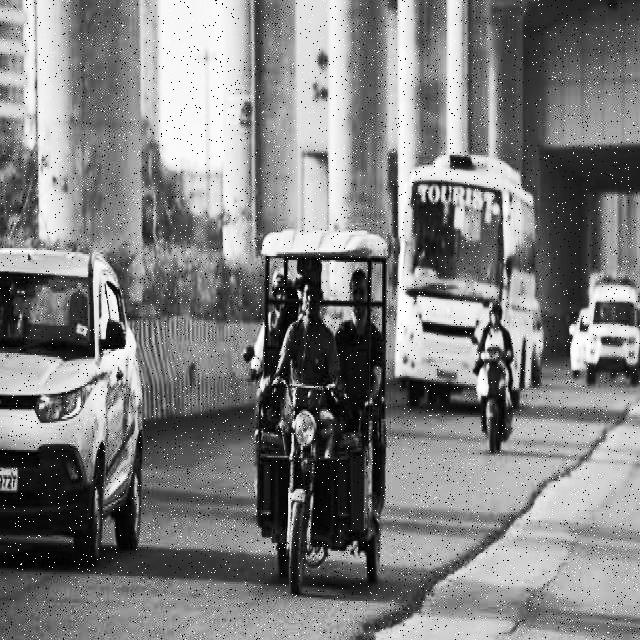Toto: (254, 231, 387, 583)
